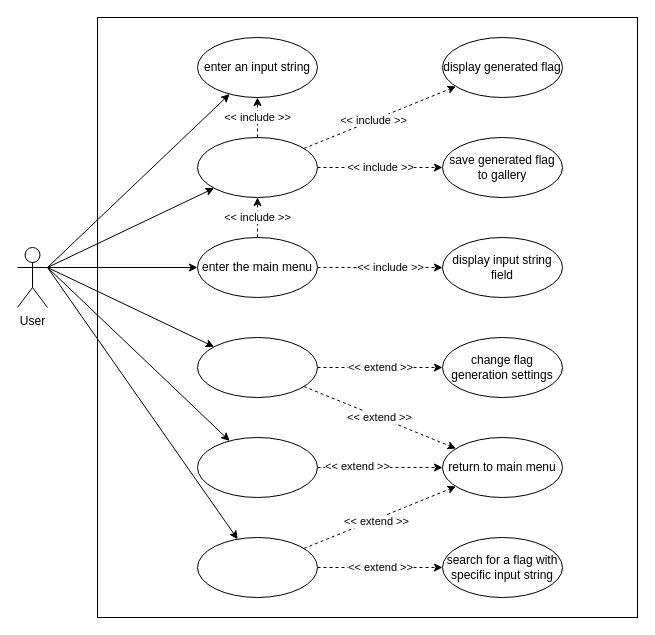
Some shapes in this 655 by 635 pixel diagram are drawn without their labels. The shapes that lost their labels are listed below. From the top down, each one's box as (x1, y1, x2, y2) in pixels, then its label:
(196, 136, 318, 198): generate a new flag
(196, 336, 318, 398): open the settings menu
(196, 436, 318, 498): view the instructions
(196, 536, 318, 598): view the gallery
